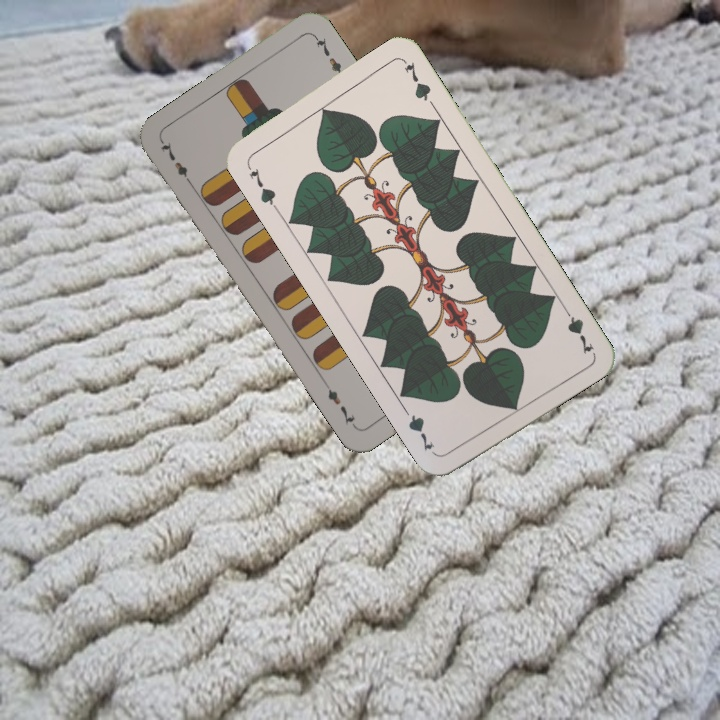E7: (156, 137, 196, 190)
G7: (558, 301, 596, 357), (243, 159, 280, 213)
